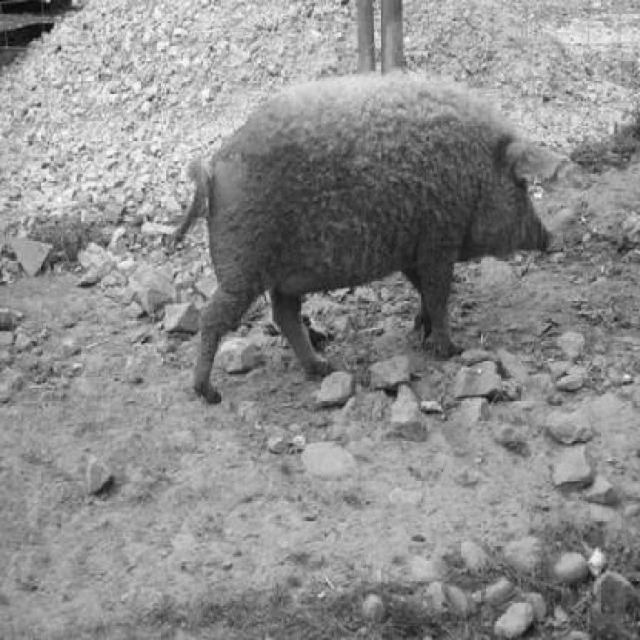Boar: (160, 28, 572, 406)
